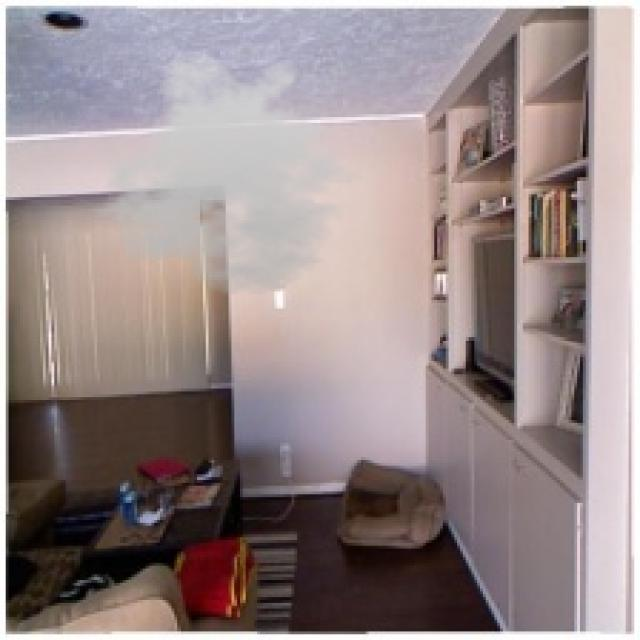smoke: (94, 52, 377, 297)
